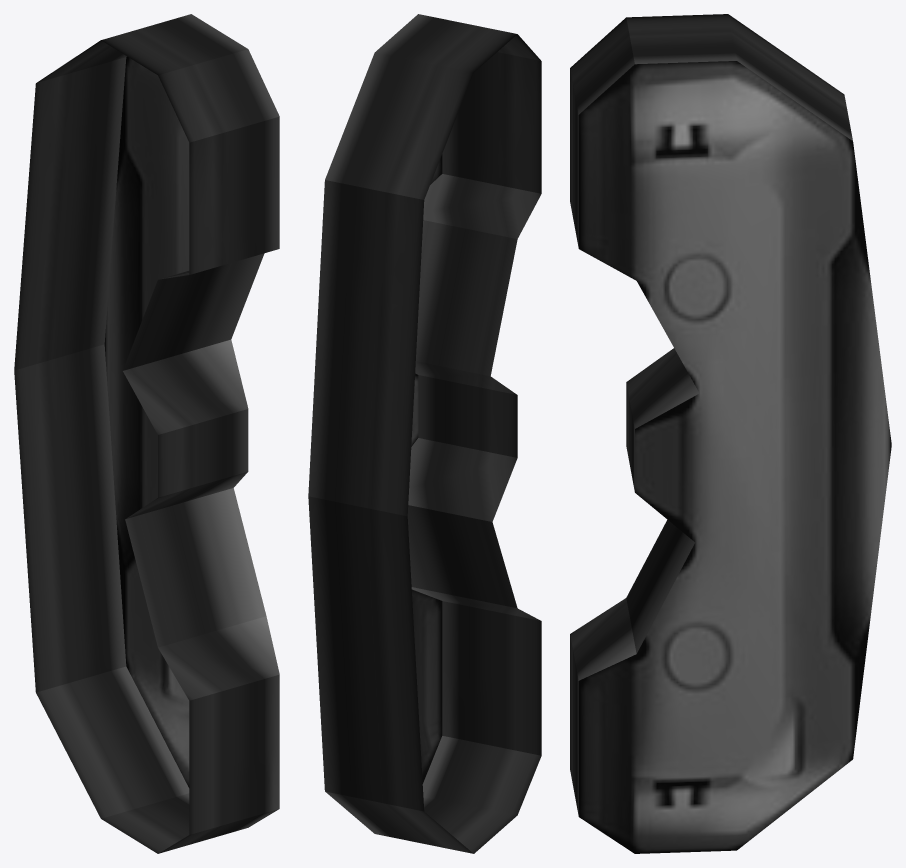
The model's file is tozzo98_caliperstock_rr_rb1c_tire_1k_0_lev3.glb.
3 renders of one model, left to right at view 1: azimuth 30°, elevation 25°; view 2: azimuth 150°, elevation 25°; view 3: azimuth 270°, elevation 25°, orthographic.
Visible parts, largest first — view 1: tozzo98_caliperstock_rr_rb1c_tire_1k_0_lev3; view 2: tozzo98_caliperstock_rr_rb1c_tire_1k_0_lev3; view 3: tozzo98_caliperstock_rr_rb1c_tire_1k_0_lev3.
Part boxes in pixels (x1,y1,x2,y2): tozzo98_caliperstock_rr_rb1c_tire_1k_0_lev3: (14, 14, 279, 853); tozzo98_caliperstock_rr_rb1c_tire_1k_0_lev3: (308, 14, 541, 853); tozzo98_caliperstock_rr_rb1c_tire_1k_0_lev3: (570, 14, 891, 853).
Size of the model in its own units: 0.0284 by 0.1615 by 0.0596.
Materials: 1 (1 with a texture image).
